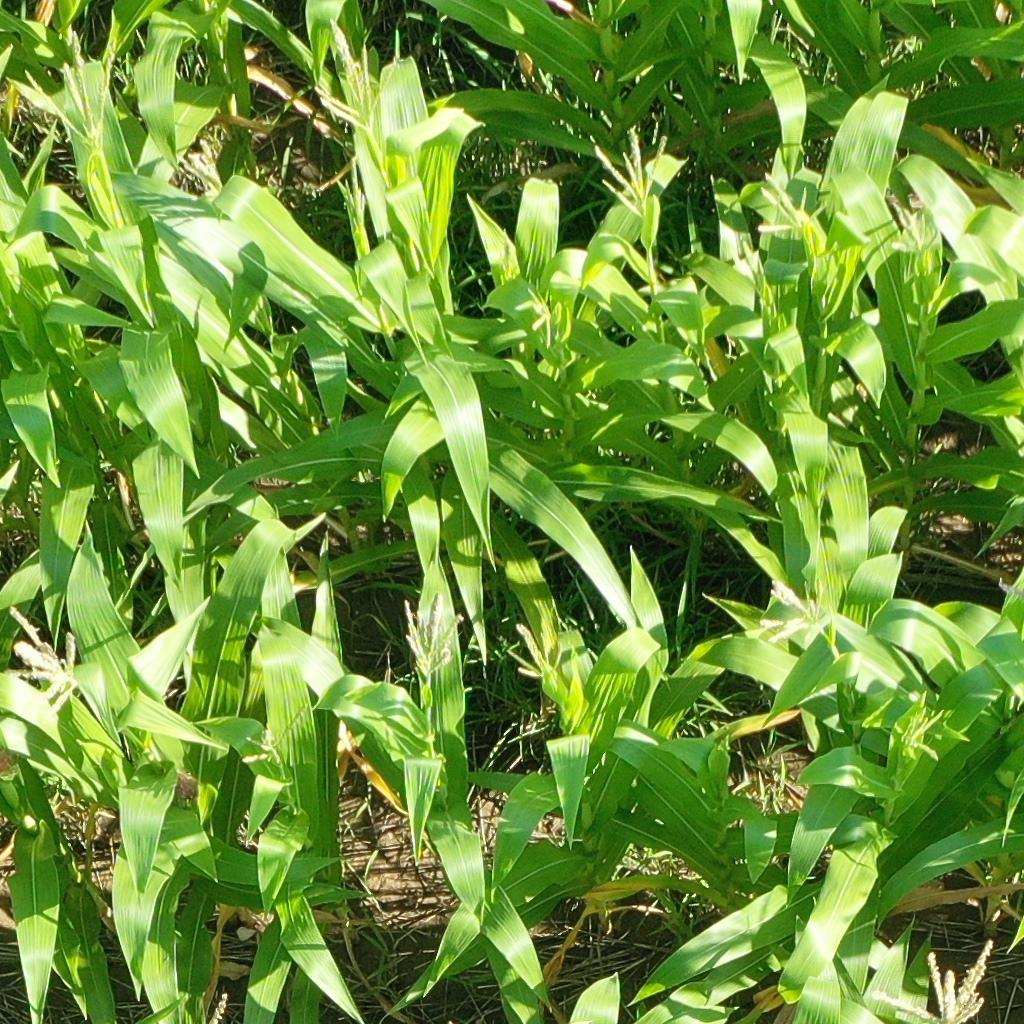Tassel: (22, 19, 125, 151), (306, 18, 407, 141), (870, 934, 996, 1024), (5, 604, 91, 725), (586, 123, 675, 218), (754, 571, 849, 660), (398, 587, 469, 680), (236, 698, 310, 773), (749, 174, 830, 239), (503, 614, 569, 683), (885, 193, 943, 258), (888, 703, 951, 760), (169, 135, 226, 187), (515, 286, 559, 348)
